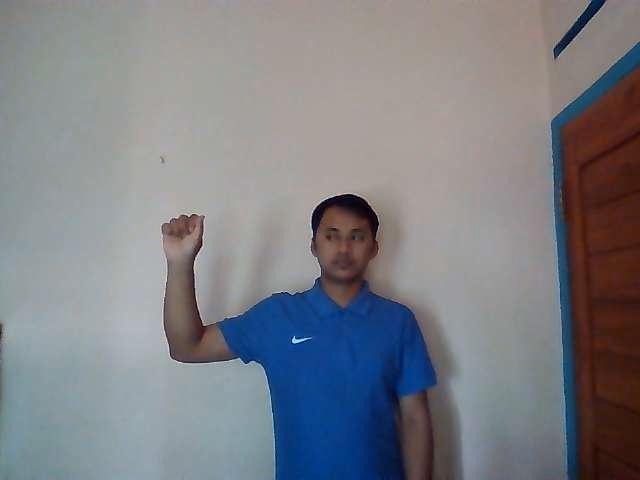A: (161, 213, 206, 256)
